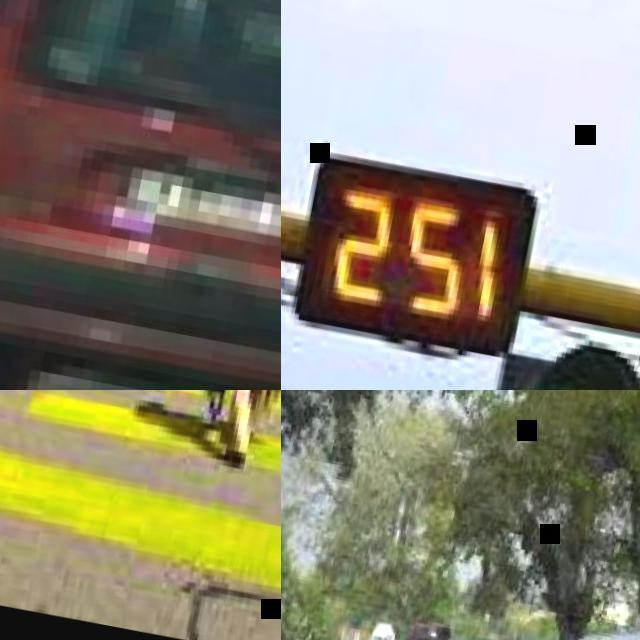car: (292, 0, 639, 357)
